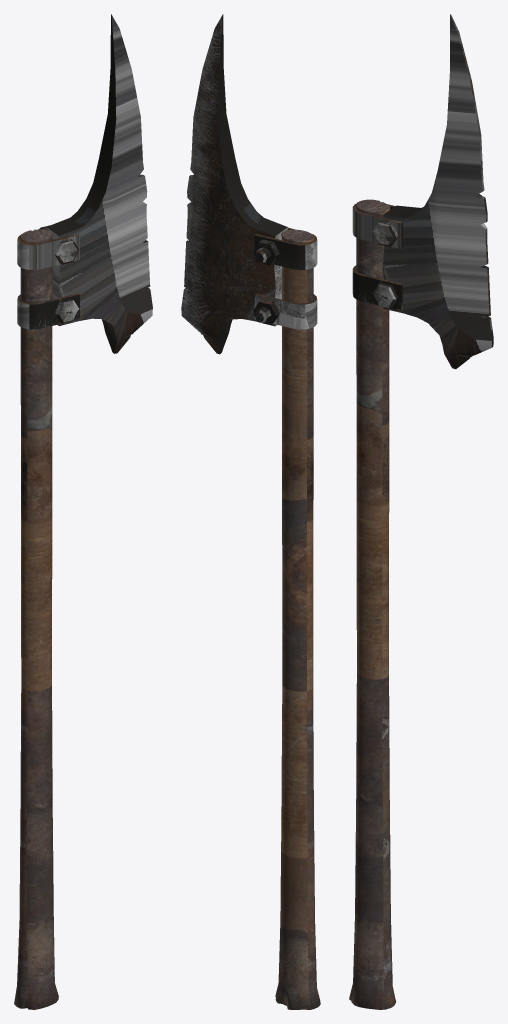
The picture shows the model from 3 angles, left to right: view 1: azimuth 30°, elevation 25°; view 2: azimuth 150°, elevation 25°; view 3: azimuth 330°, elevation 25°; orthographic projection. The views are drawn at different scales.
Visible parts, largest first — view 1: mesh_0; view 2: mesh_0; view 3: mesh_0.
Part boxes in pixels (<box>): mesh_0: <box>14,14,152,1009</box>; mesh_0: <box>181,14,320,1009</box>; mesh_0: <box>349,14,493,1009</box>.
Size of the model in its own units: 10.63 by 72.17 by 3.74.
1 material, 1 textured.
